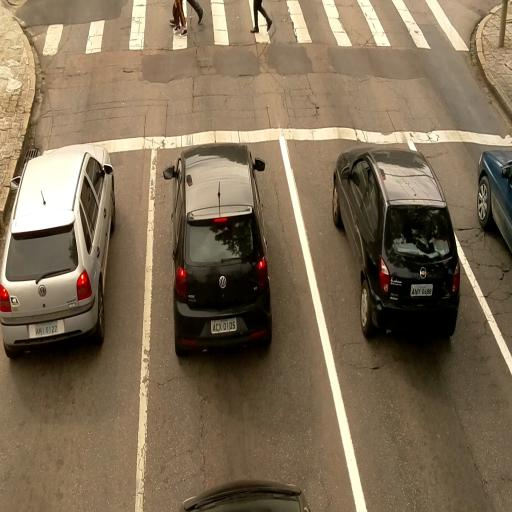car: (332, 143, 461, 342), (0, 142, 116, 356), (163, 141, 272, 357), (477, 144, 512, 270), (178, 478, 308, 510)
